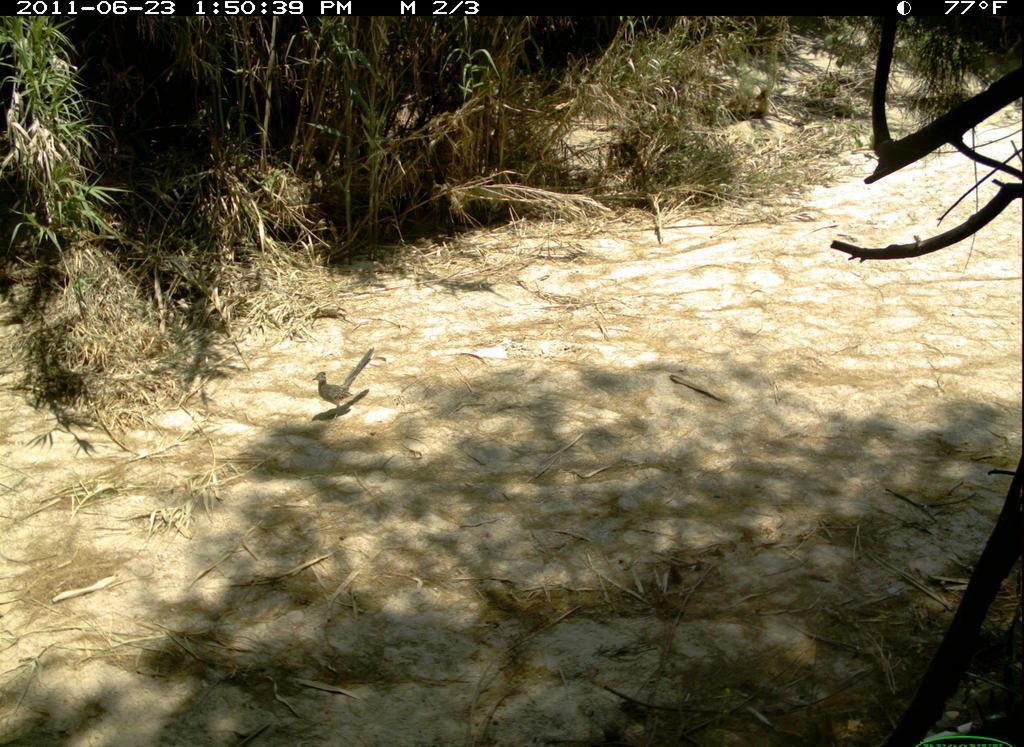bird: (312, 332, 392, 418)
